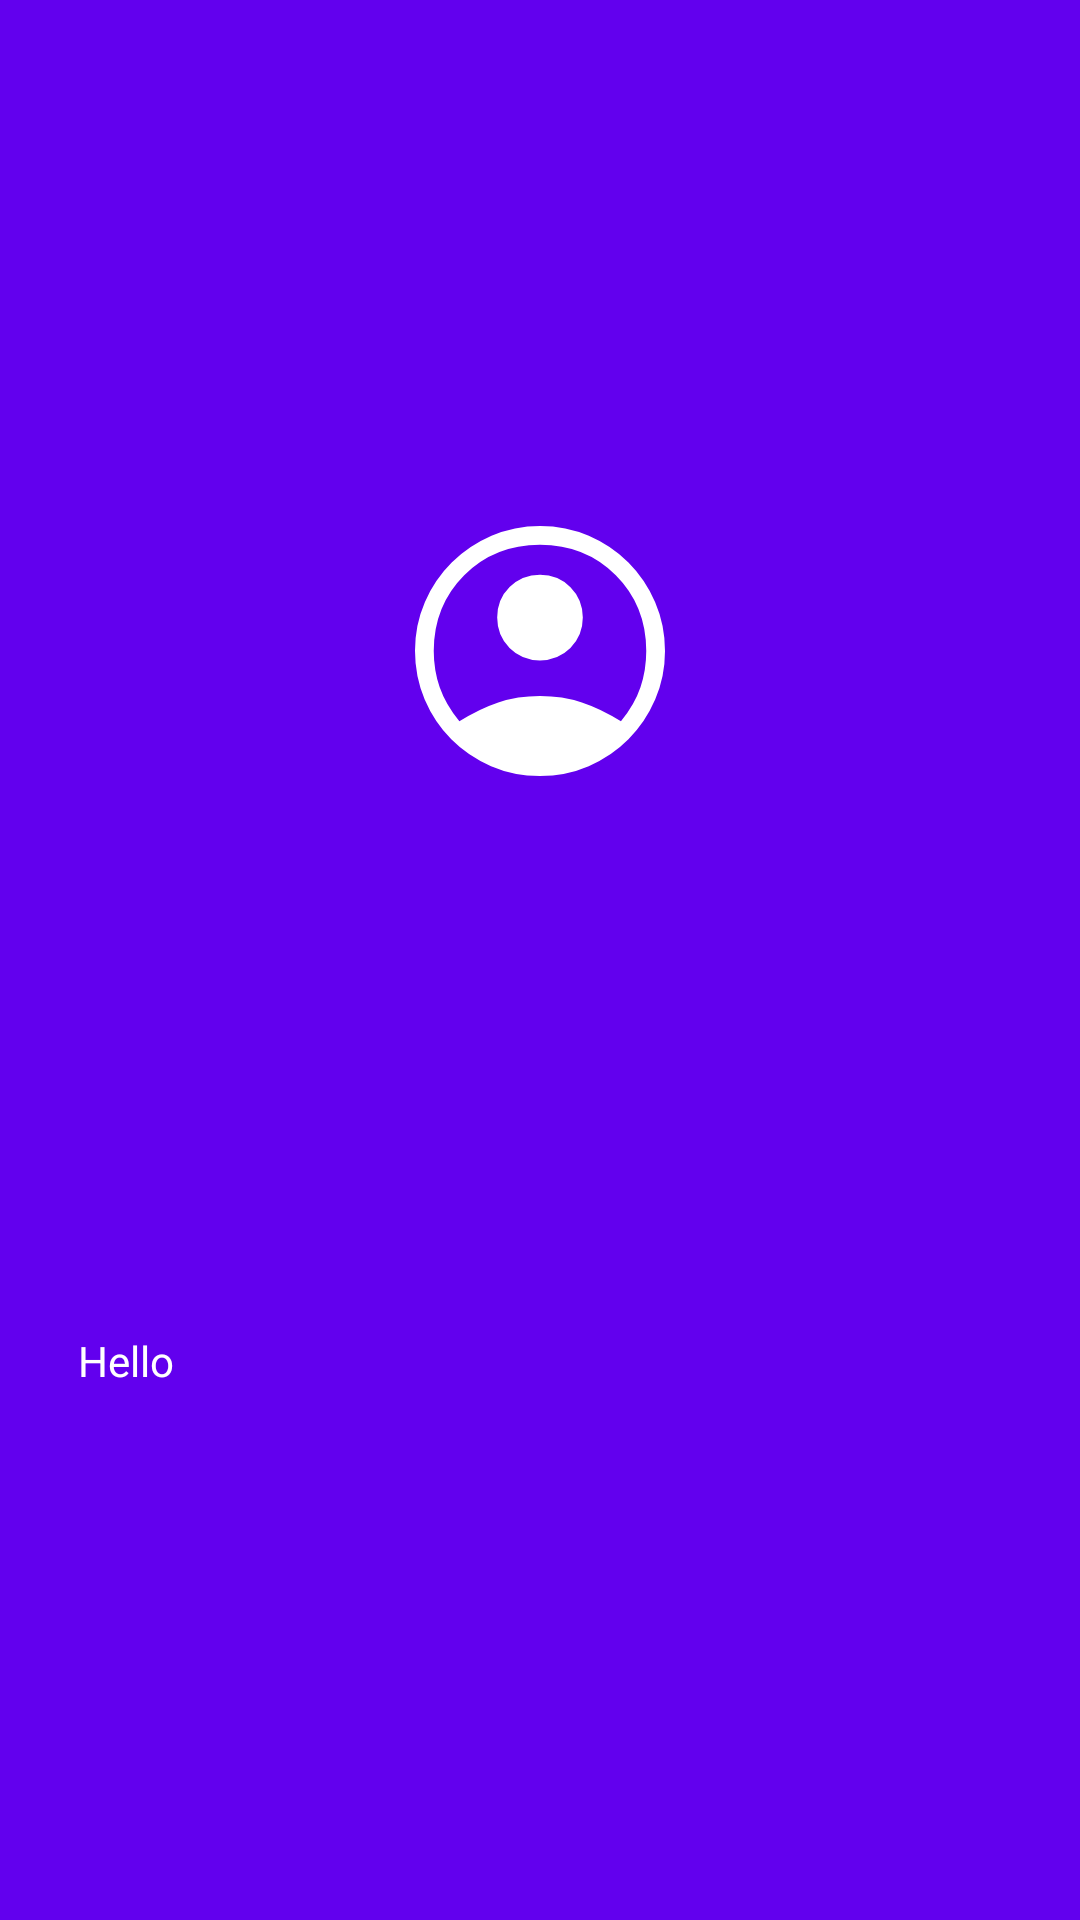

Named icons in this screenshot (1080px×1920px) and their centers, point (x, y):
account circle: point (540, 651)
